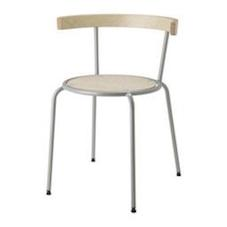chair: (37, 8, 197, 225)
